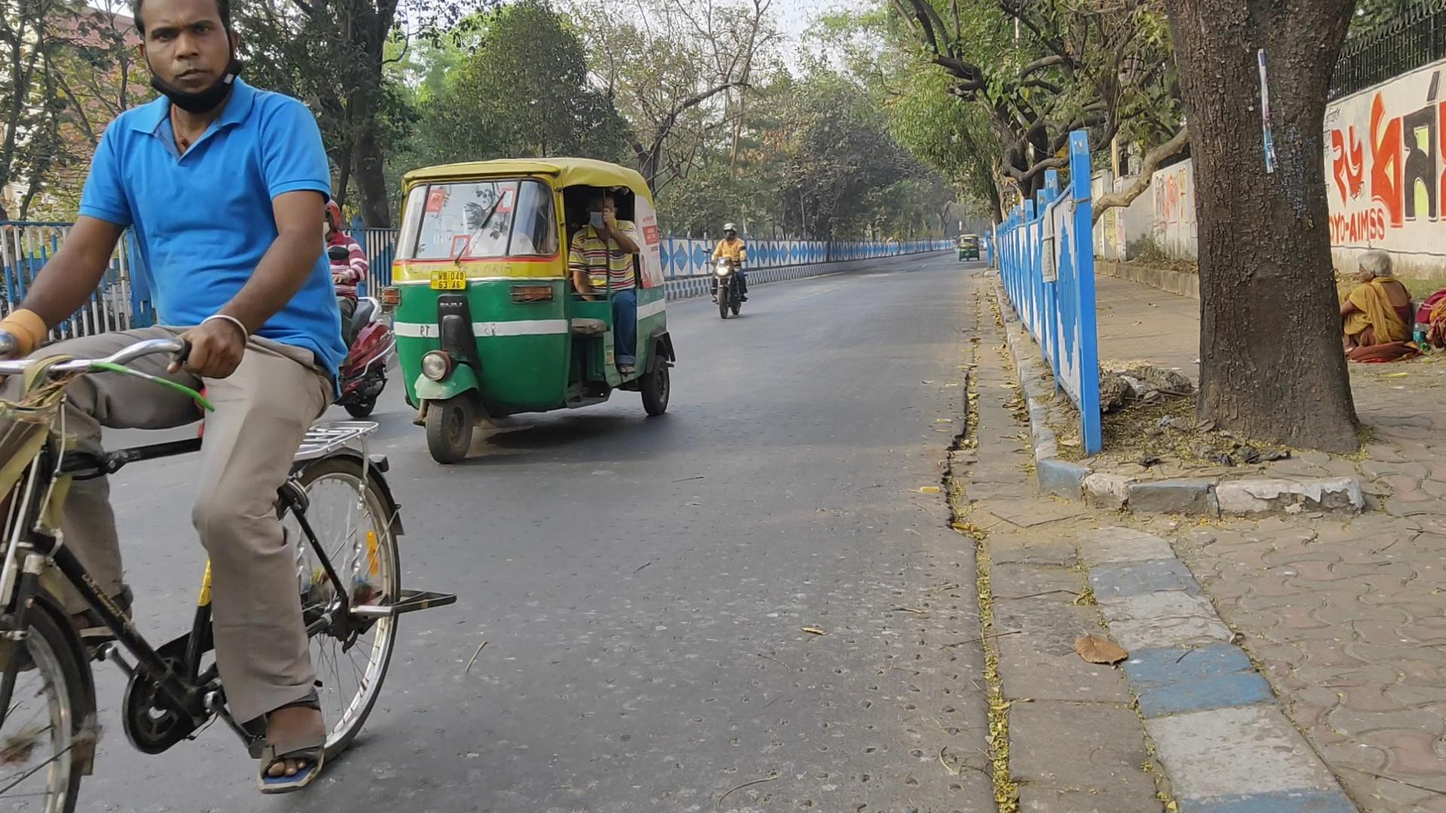Auto: (382, 155, 676, 464), (703, 222, 749, 321), (956, 232, 981, 263)
bike: (1, 2, 458, 813)
